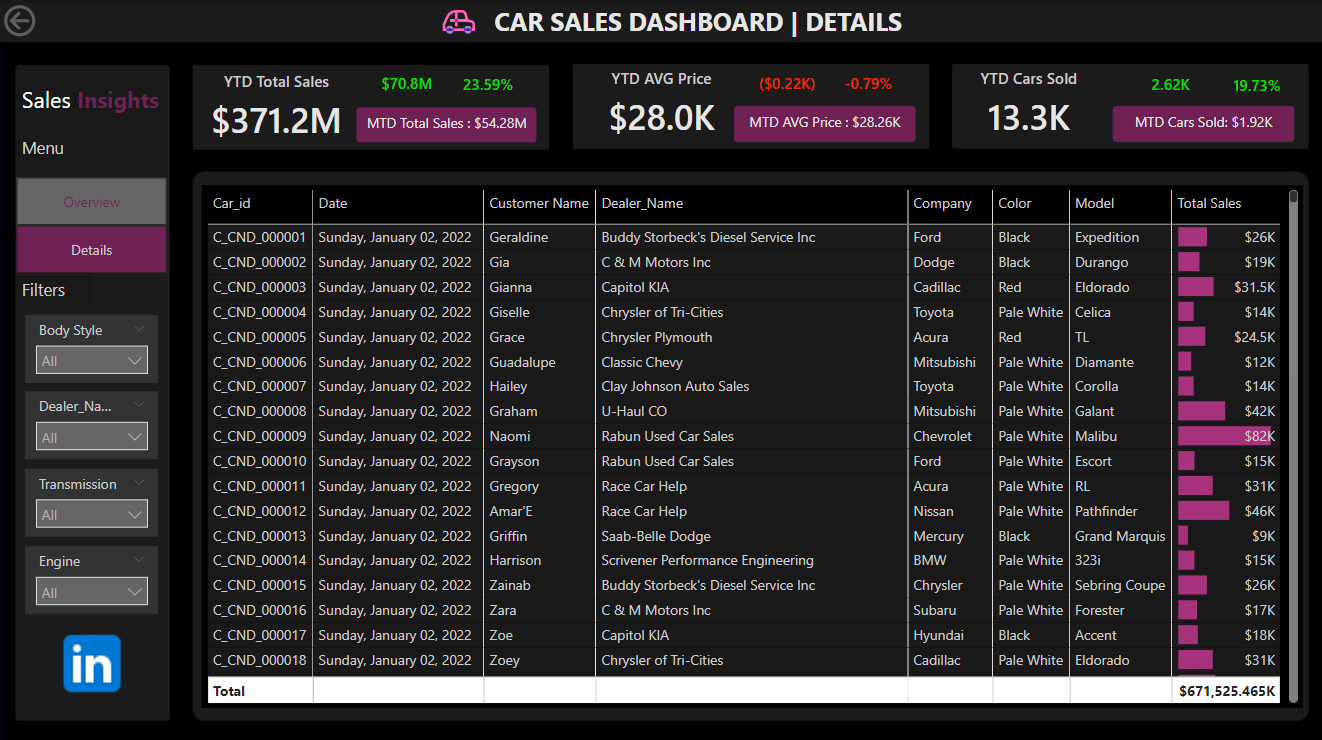

Layout of this report page (visuals, bound fields, positions):
{"tool":"powerbi","page":{"name":"Details","canvas":[1280,720],"ordinal":1},"visuals":[{"type":"card","title":"YTD Total Sales","fields":{"Values":["car_data.YTD Total Sales"]},"box":[183.4,67.7,168.6,76.3],"z":0},{"type":"card","fields":{"Values":["car_data.Sales Difference"]},"box":[359.5,61.5,68.8,42.2],"z":1000},{"type":"card","fields":{"Values":["car_data.YOY Sales Growth"]},"box":[437.9,62.7,68.8,42.2],"z":2000},{"type":"card","fields":{"Values":["car_data.MID KPI"]},"box":[345,103.8,173.7,33.8],"z":3000},{"type":"card","title":"YTD AVG Price","fields":{"Values":["car_data.YTD AVG Price"]},"box":[555,65.1,168.9,76],"z":4000},{"type":"card","fields":{"Values":["car_data.AVG Price Diff"]},"box":[726.3,61.6,68.9,41.9],"z":5000},{"type":"card","fields":{"Values":["car_data.YoY AVG Price Growth"]},"box":[805.1,61.6,68.9,41.9],"z":6000},{"type":"card","fields":{"Values":["car_data.MID AVG Price KPI"]},"box":[709.1,102.2,174.8,34.5],"z":7000},{"type":"card","title":"YTD Cars Sold","fields":{"Values":["car_data.YTD Cars Sold"]},"box":[909.7,65.2,168.6,76.3],"z":8000},{"type":"card","fields":{"Values":["car_data.Cars Sold Diff"]},"box":[1096.8,62.8,68.9,41.9],"z":9000},{"type":"card","fields":{"Values":["car_data.YoY Car Sold Growth"]},"box":[1179.3,64,68.9,41.9],"z":10000},{"type":"card","fields":{"Values":["car_data.MTD Cars Sold KPI"]},"box":[1074.7,102.2,174.8,34.5],"z":11000},{"type":"actionButton","box":[0,0,100,40],"z":12000},{"type":"textbox","box":[472.7,0,445.6,41.9],"z":13000},{"type":"slicer","fields":{"Values":["car_data.Body Style"]},"box":[25.9,304.1,128,65.2],"z":14000},{"type":"slicer","fields":{"Values":["car_data.Dealer_Name"]},"box":[25.9,377.9,128,65.2],"z":15000},{"type":"slicer","fields":{"Values":["car_data.Transmission"]},"box":[25.9,453,128,65.2],"z":16000},{"type":"slicer","fields":{"Values":["car_data.Engine"]},"box":[25.9,526.9,128,65.2],"z":17000},{"type":"textbox","box":[17.2,263.4,72.6,33.2],"z":18000},{"type":"tableEx","fields":{"Values":["car_data.Car_id","car_data.Date","car_data.Customer Name","car_data.Dealer_Name","car_data.Company","car_data.Color","car_data.Model","car_data.Price ($)"]},"box":[195.7,178.5,1063.6,504.7],"z":19000},{"type":"textbox","box":[17.2,76.3,145.3,67.7],"z":20000},{"type":"textbox","box":[17.2,126.8,62.8,44.3],"z":21000},{"type":"pageNavigator","box":[17.2,171.1,145.3,92.3],"z":22000},{"type":"image","box":[421,0,45.5,40.6],"z":23000},{"type":"image","box":[48,597,83.7,86.2],"z":24000}]}

Visuals, with their boxes on the page's 1280x720 design canvas (x1, y1, x2, y2). These are canvas units, not pixel positions in the 1322x740 screenshot, which may show the page scaled, cropped or inside an application window:
"YTD Total Sales" card: [left=183, top=68, right=352, bottom=144]
card - car_data.Sales Difference: [left=360, top=62, right=428, bottom=104]
card - car_data.YOY Sales Growth: [left=438, top=63, right=507, bottom=105]
card - car_data.MID KPI: [left=345, top=104, right=519, bottom=138]
"YTD AVG Price" card: [left=555, top=65, right=724, bottom=141]
card - car_data.AVG Price Diff: [left=726, top=62, right=795, bottom=104]
card - car_data.YoY AVG Price Growth: [left=805, top=62, right=874, bottom=104]
card - car_data.MID AVG Price KPI: [left=709, top=102, right=884, bottom=137]
"YTD Cars Sold" card: [left=910, top=65, right=1078, bottom=142]
card - car_data.Cars Sold Diff: [left=1097, top=63, right=1166, bottom=105]
card - car_data.YoY Car Sold Growth: [left=1179, top=64, right=1248, bottom=106]
card - car_data.MTD Cars Sold KPI: [left=1075, top=102, right=1250, bottom=137]
actionButton: [left=0, top=0, right=100, bottom=40]
textbox: [left=473, top=0, right=918, bottom=42]
slicer - car_data.Body Style: [left=26, top=304, right=154, bottom=369]
slicer - car_data.Dealer_Name: [left=26, top=378, right=154, bottom=443]
slicer - car_data.Transmission: [left=26, top=453, right=154, bottom=518]
slicer - car_data.Engine: [left=26, top=527, right=154, bottom=592]
textbox: [left=17, top=263, right=90, bottom=297]
tableEx - car_data.Car_id x car_data.Date: [left=196, top=178, right=1259, bottom=683]
textbox: [left=17, top=76, right=162, bottom=144]
textbox: [left=17, top=127, right=80, bottom=171]
pageNavigator: [left=17, top=171, right=162, bottom=263]
image: [left=421, top=0, right=466, bottom=41]
image: [left=48, top=597, right=132, bottom=683]
